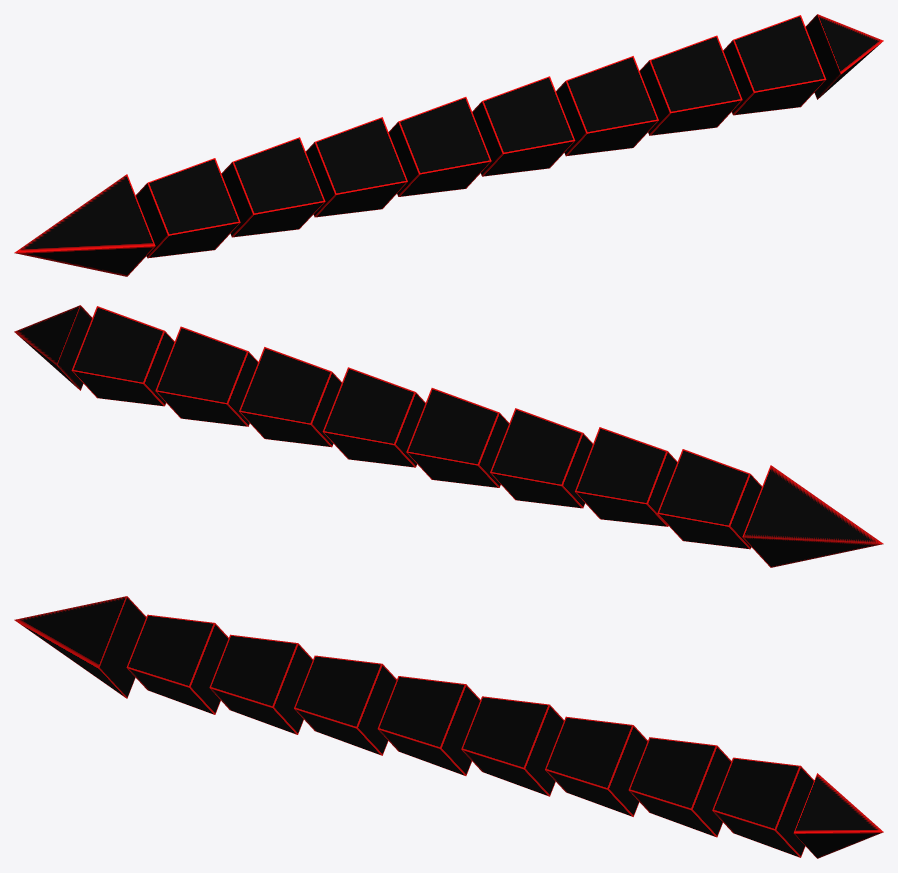
File: thing.obj
The picture shows the model from 3 angles, top to bottom: view 1: azimuth 30°, elevation 25°; view 2: azimuth 150°, elevation 25°; view 3: azimuth 330°, elevation 25°; orthographic projection.
Parts seen in each view (by area): view 1: Heada, B1a, B2a, B7a, B4a, B8a, B5a, B6a, B3a, Taila; view 2: Heada, B1a, B3a, B7a, B4a, B8a, B5a, B6a, B2a, Taila; view 3: B2a, B7a, B3a, B4a, B5a, B6a, B1a, B8a, Heada, Taila.
Part boxes in pixels (box(x1,y1,x2,y2)): Heada: box(14, 174, 155, 276); B1a: box(136, 158, 240, 258); B2a: box(221, 137, 325, 237); B7a: box(639, 35, 742, 135); B4a: box(388, 97, 491, 196); B8a: box(723, 15, 826, 115); B5a: box(472, 76, 575, 176); B6a: box(556, 56, 658, 156); B3a: box(305, 117, 407, 217); Taila: box(805, 14, 883, 99); Heada: box(742, 465, 883, 567); B1a: box(657, 449, 761, 549); B3a: box(490, 408, 592, 508); B7a: box(155, 326, 258, 426); B4a: box(406, 388, 509, 487); B8a: box(71, 306, 174, 406); B5a: box(322, 367, 425, 467); B6a: box(239, 347, 341, 447); B2a: box(575, 427, 677, 526); Taila: box(14, 305, 92, 390); B2a: box(209, 634, 312, 734); B7a: box(628, 737, 731, 837); B3a: box(294, 655, 396, 755); B4a: box(377, 676, 480, 775); B5a: box(461, 696, 564, 796); B6a: box(545, 716, 647, 816); B1a: box(126, 614, 228, 714); B8a: box(712, 757, 814, 857); Heada: box(14, 596, 146, 698); Taila: box(793, 773, 883, 858).
Bounding box in the file's own units: 10.4 × 1.18 × 1.18.
Materials: 2 (2 with a texture image).
